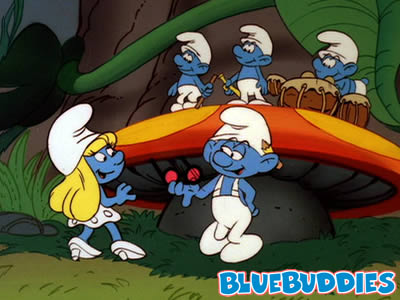smurf: (46, 102, 147, 263), (199, 103, 277, 263), (313, 30, 368, 96), (231, 23, 273, 107), (169, 33, 213, 111)
